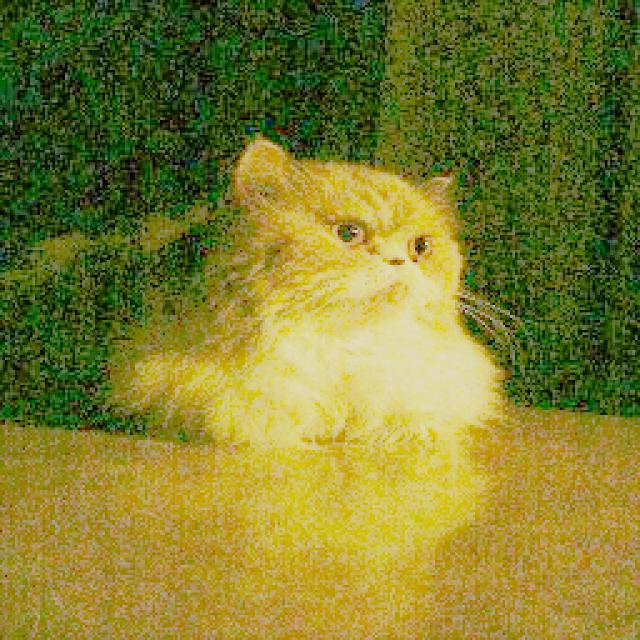cat: (69, 109, 518, 492)
